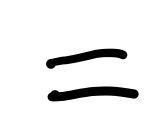eqv: (46, 49, 139, 102)
